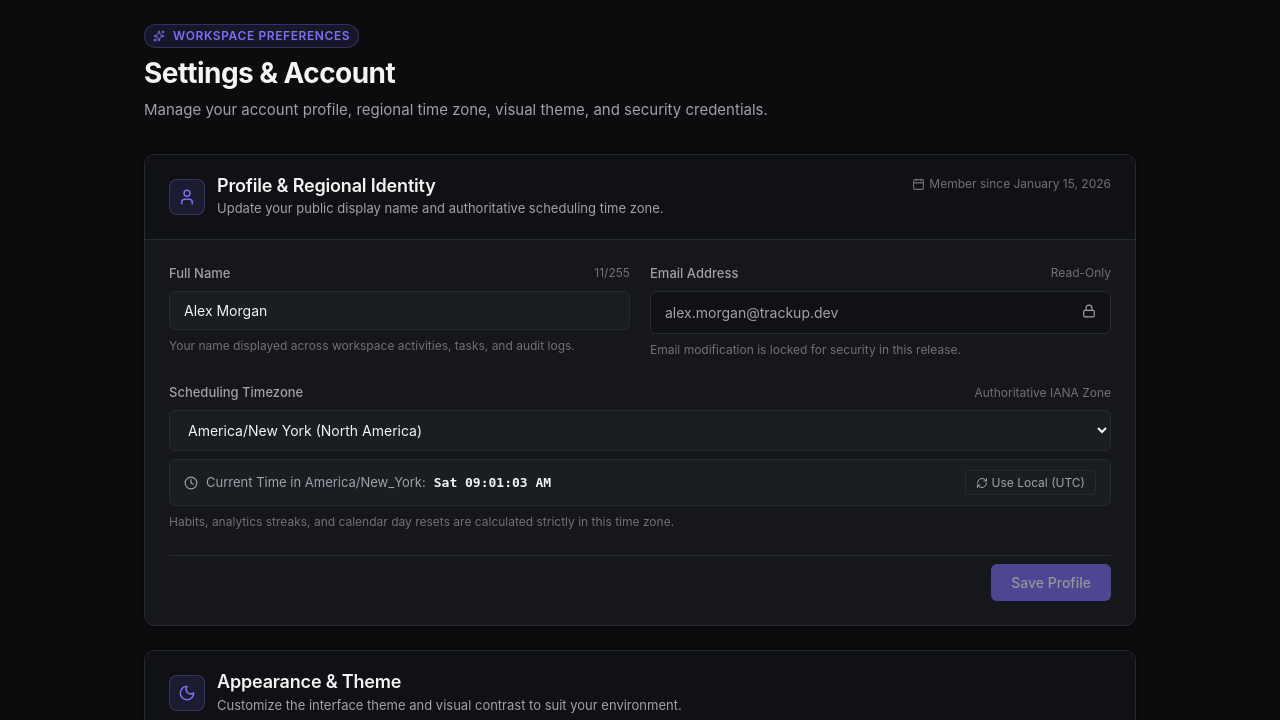
Test: Phase 4.6: Settings & Profile Frontend Slice › 2. Profile & Regional Identity Updates › enables Save Profile when name is edited and submits successfully
Replace the text in the field showing "Alex Morgan" with "Alex M. Updated" at (400, 310), box [169,291,630,330]
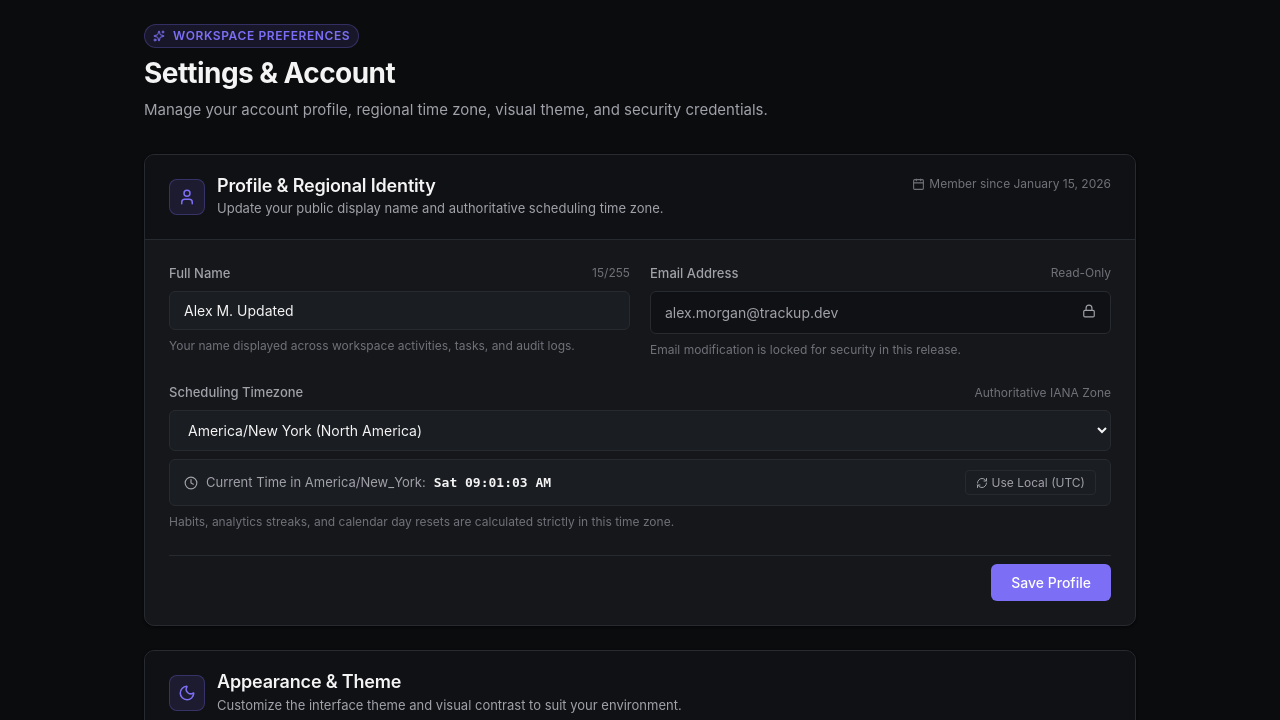
Expected: the button "Save Profile" is enabled
Click the button "Save Profile" at (1051, 583), box [991,564,1111,601]
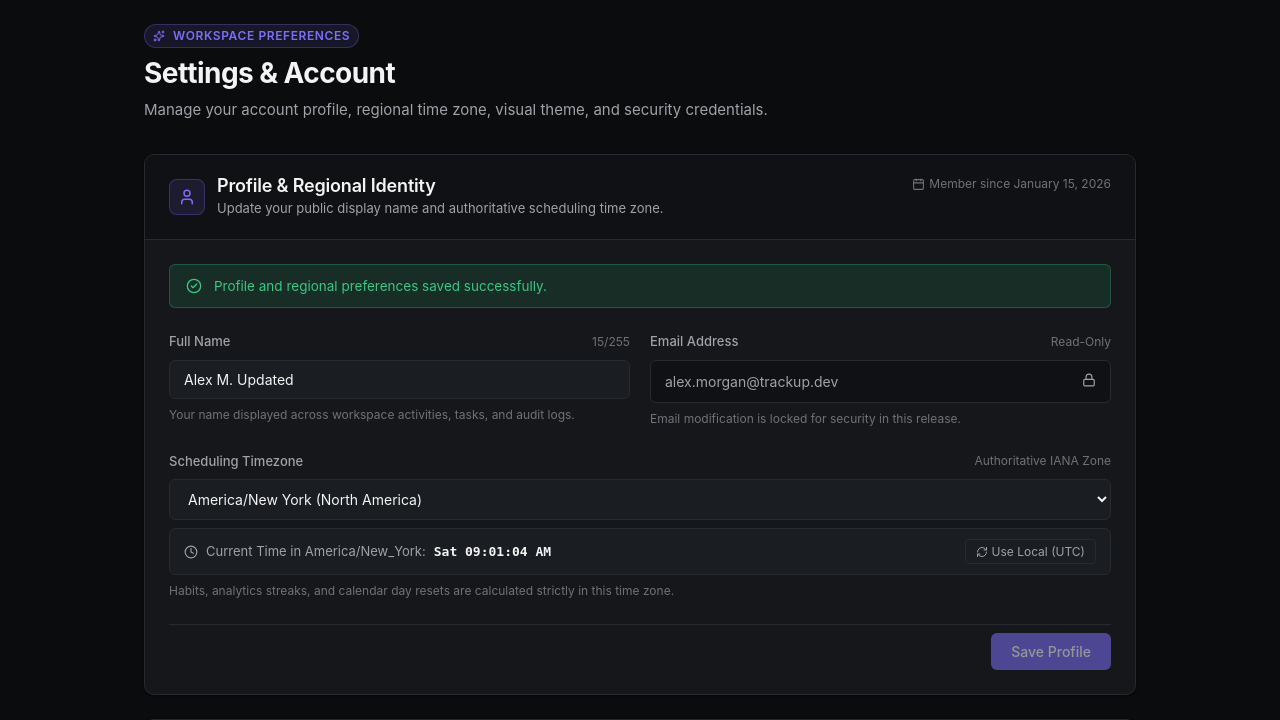
Expected: the text "Profile and regional preferences saved successfully." is shown, [214,276,547,295]
